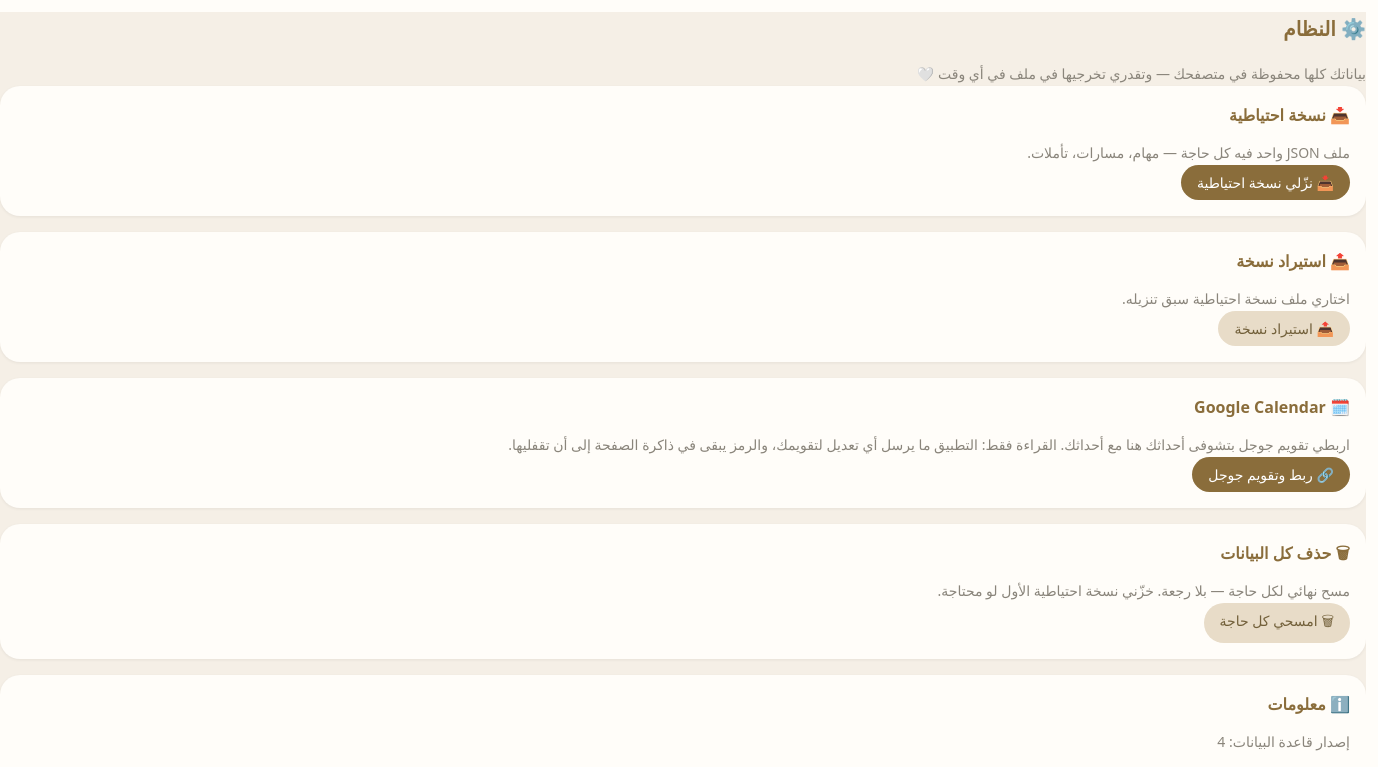
Test: Settings — بطاقة Google Calendar › فشل المزامنة بعد الربط ← رسالة لطيفة والكاش القديم باقٍ
This screenshot has width=1378, height=767.
Step 1. Click the button "🔗 ربط وتقويم جوجل" → (1271, 474), box [1192, 457, 1350, 492]
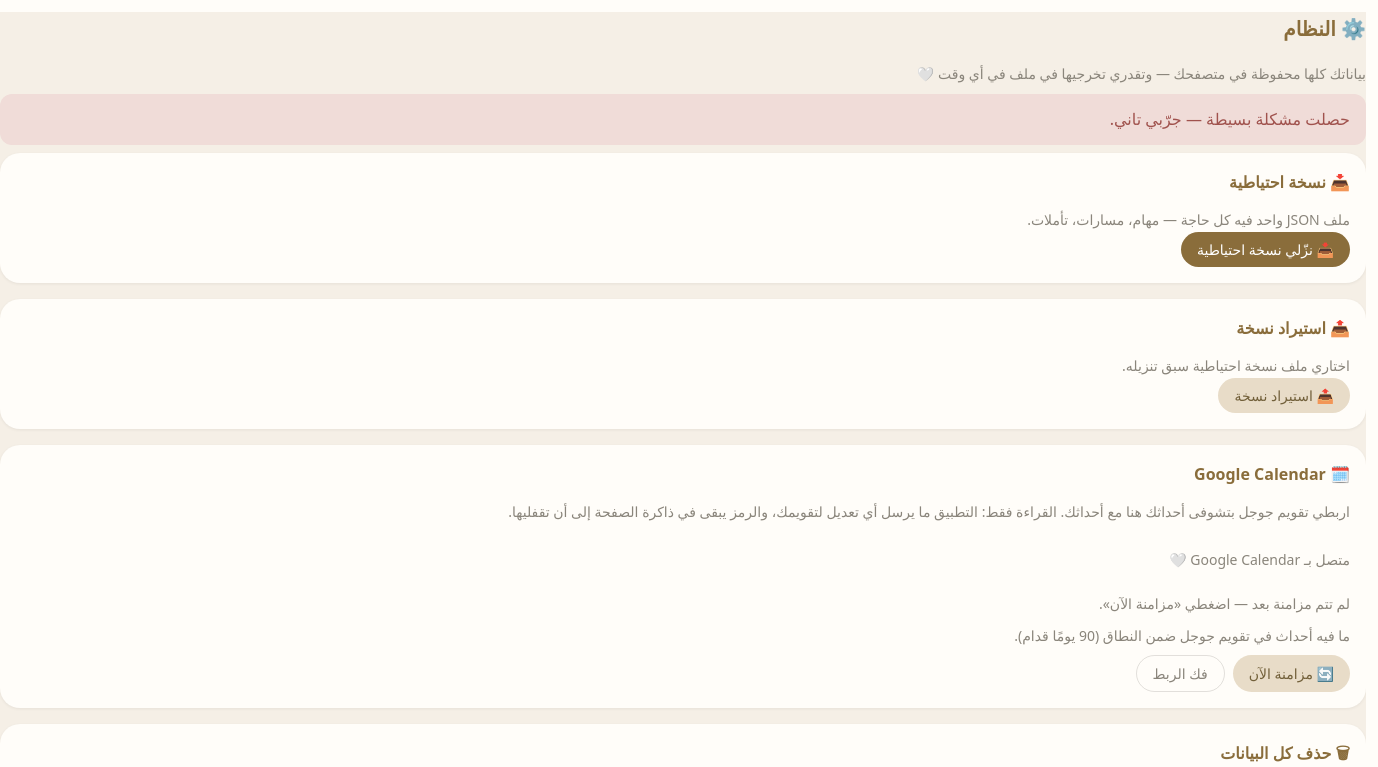
expect the text "حصلت مشكلة بسيطة — جرّبي تاني." is shown: met, box [1110, 108, 1350, 130]
